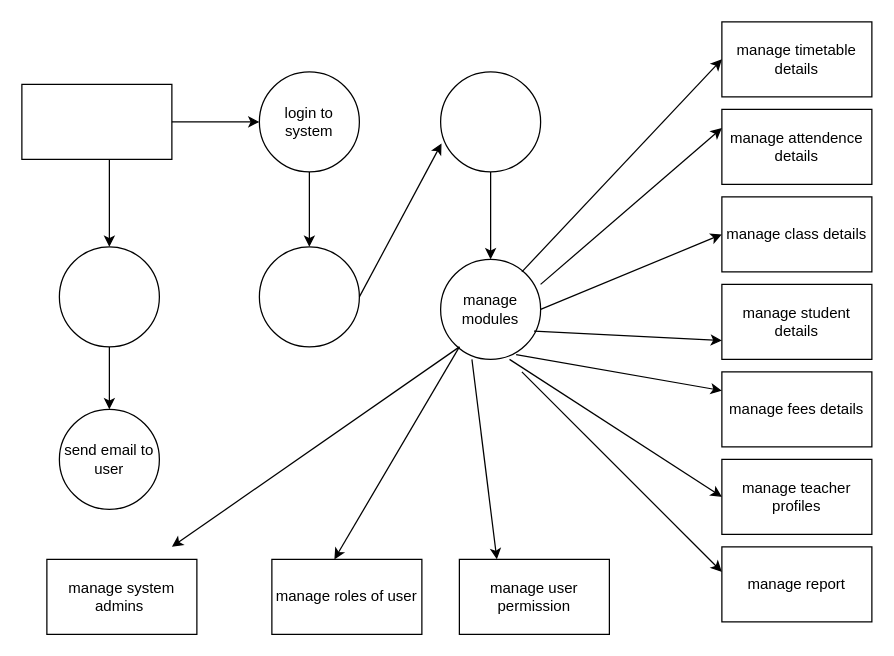
Image size: 894x656. Some labels were removed from this diagram. Each missing label, with the centre of its shape:
"admin" belongs at (96,121).
"check crdentials" belongs at (308,296).
"check roles of access" belongs at (490,121).
"forgot password" belongs at (108,296).
